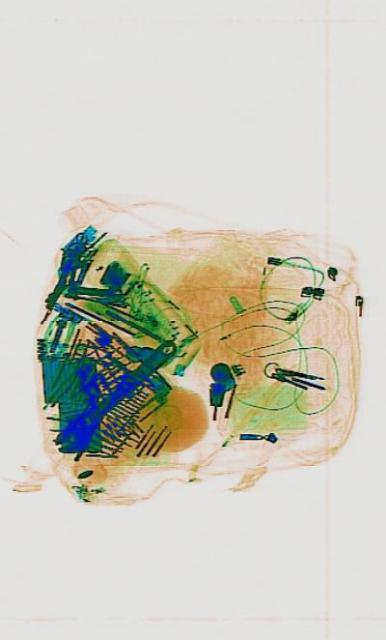Wrench: (48, 326, 179, 464)
